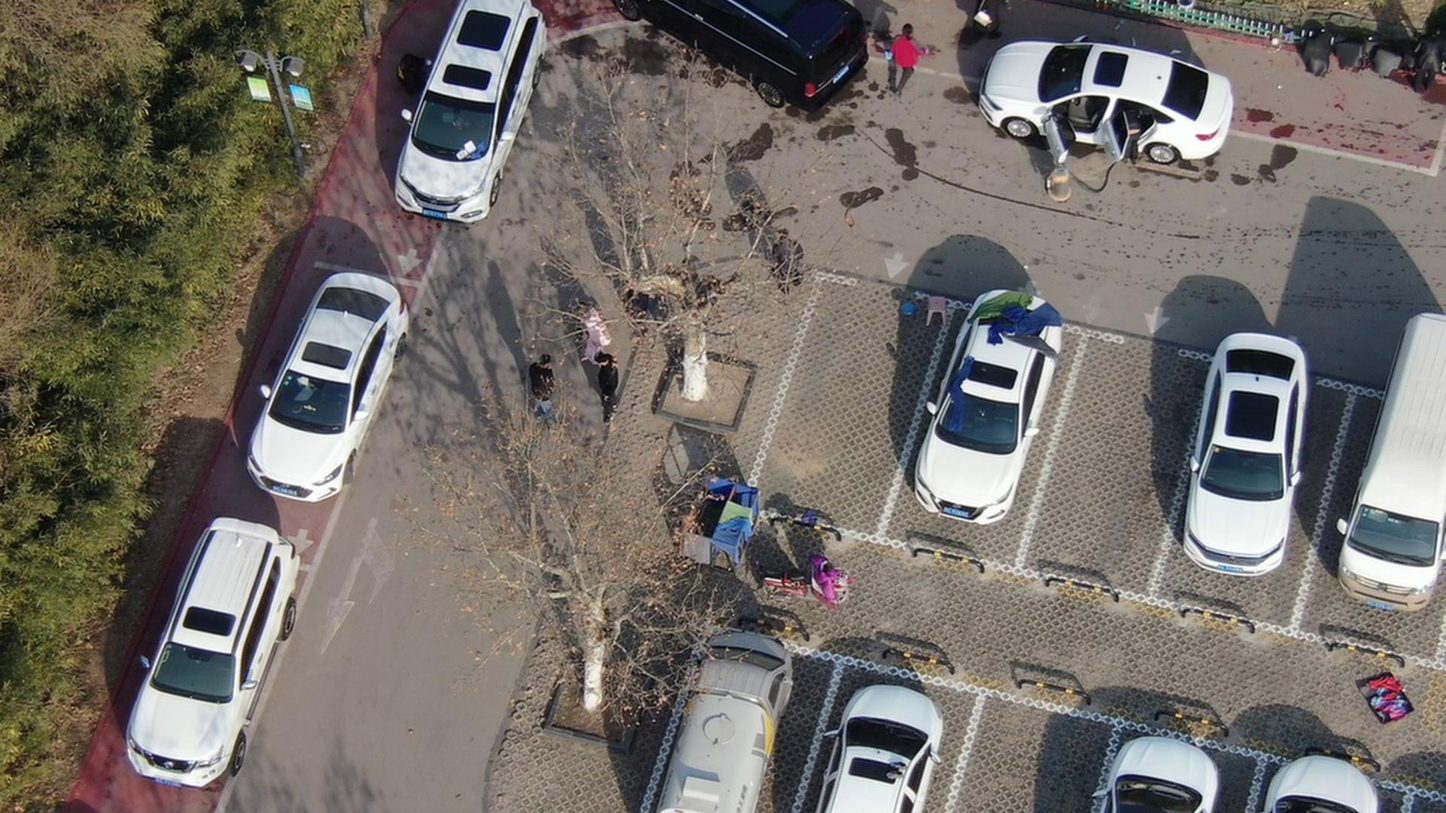human: (892, 13, 948, 95), (524, 346, 574, 433), (773, 221, 815, 305), (1116, 93, 1155, 175), (586, 351, 624, 433), (1410, 20, 1446, 95), (578, 294, 618, 356), (401, 45, 449, 93), (976, 1, 1020, 48)
